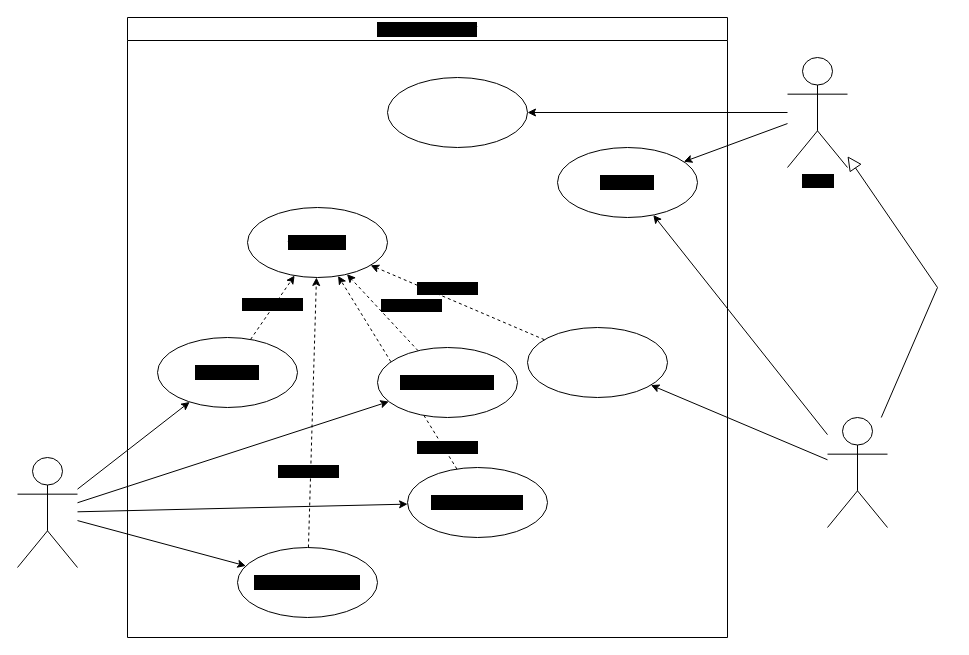
The diagram is 969 pixels wide and 655 high, and some of its shapes have lost their labels. The centre of each missing label's shape, as x and y in pixels:
"Admin" goes at [47,512].
"User" goes at [857,472].
"Đăng ký" goes at [457,112].
"Đặt hàng" goes at [597,362].
